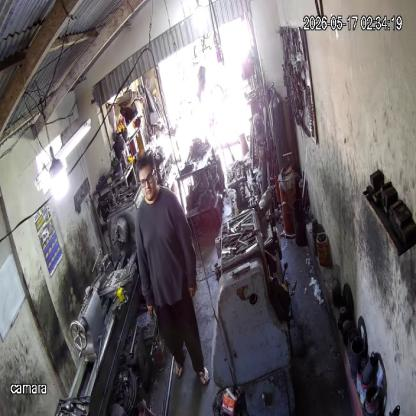lentes: (138, 171, 154, 187)
